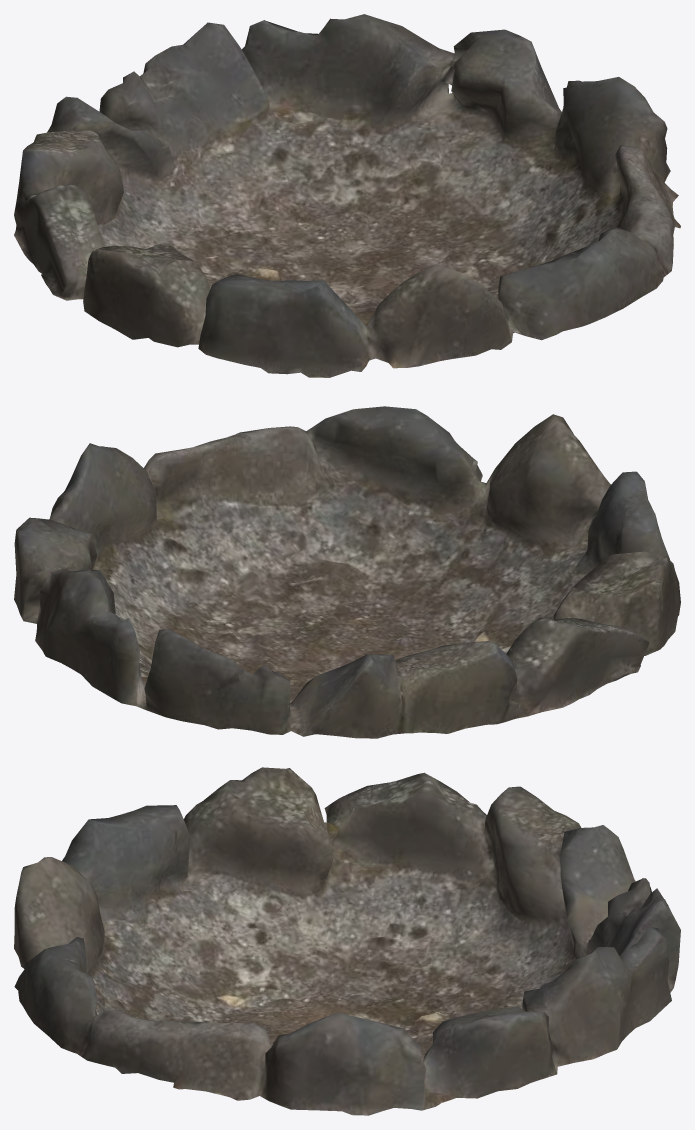
File: stone_fire_pit.glb
The picture shows the model from 3 angles, top to bottom: view 1: azimuth 30°, elevation 25°; view 2: azimuth 150°, elevation 25°; view 3: azimuth 270°, elevation 25°; orthographic projection.
Parts seen in each view (by area): view 1: stone_fire_pit; view 2: stone_fire_pit; view 3: stone_fire_pit.
Boxes of the visible parts, x1=… form: stone_fire_pit: x1=14, y1=14, x2=680, y2=377; stone_fire_pit: x1=14, y1=406, x2=680, y2=738; stone_fire_pit: x1=14, y1=767, x2=680, y2=1115.
Size of the model in its own units: 1.45 by 0.3883 by 1.43.
Materials: 1 (1 with a texture image).
